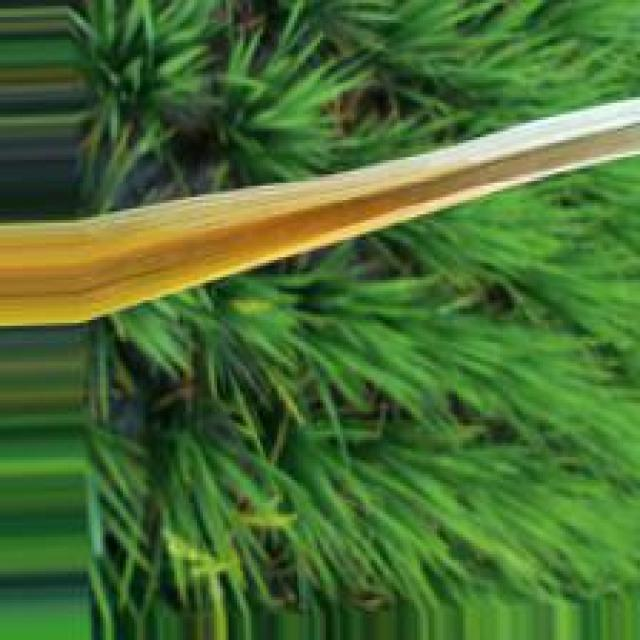Bacterial_Leaf_Blight: (80, 128, 507, 330)
